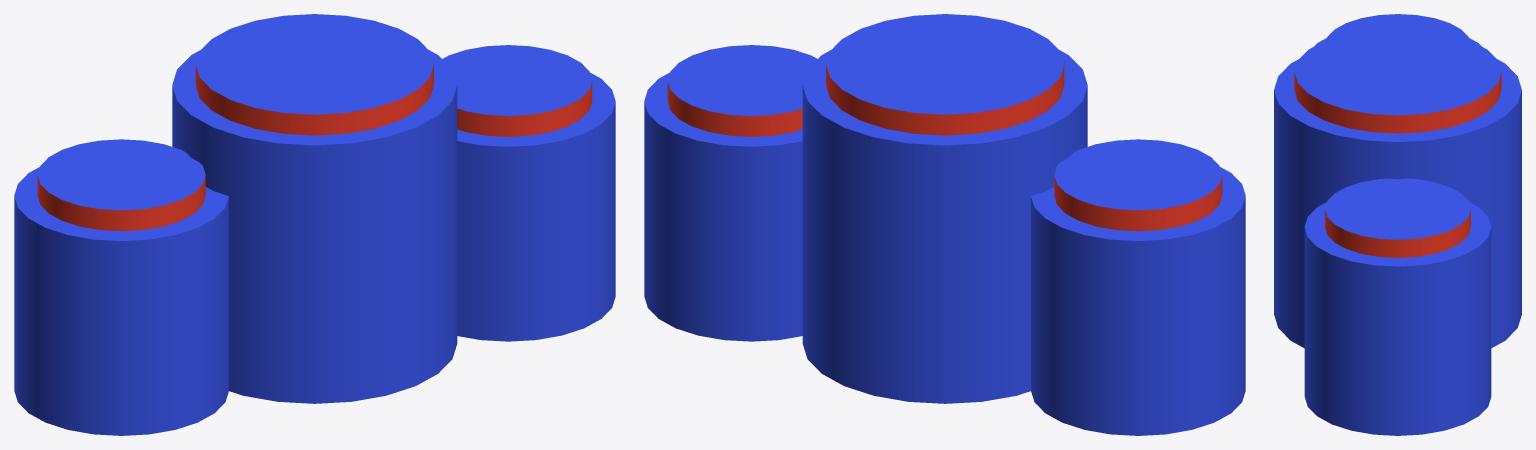
The model's file is Winners Pedestal.fbx.
3 views of the same model, side by side, from view 1: azimuth 30°, elevation 25°; view 2: azimuth 150°, elevation 25°; view 3: azimuth 270°, elevation 25° (orthographic). The views are drawn at different scales.
Parts seen in each view (by area): view 1: Winners Pedestal; view 2: Winners Pedestal; view 3: Winners Pedestal.
Boxes of the visible parts, bbox=[...] form: Winners Pedestal: bbox=[14, 14, 615, 435]; Winners Pedestal: bbox=[644, 14, 1245, 435]; Winners Pedestal: bbox=[1274, 14, 1521, 435].
Size of the model in its own units: 4.64 by 2.16 by 2.
